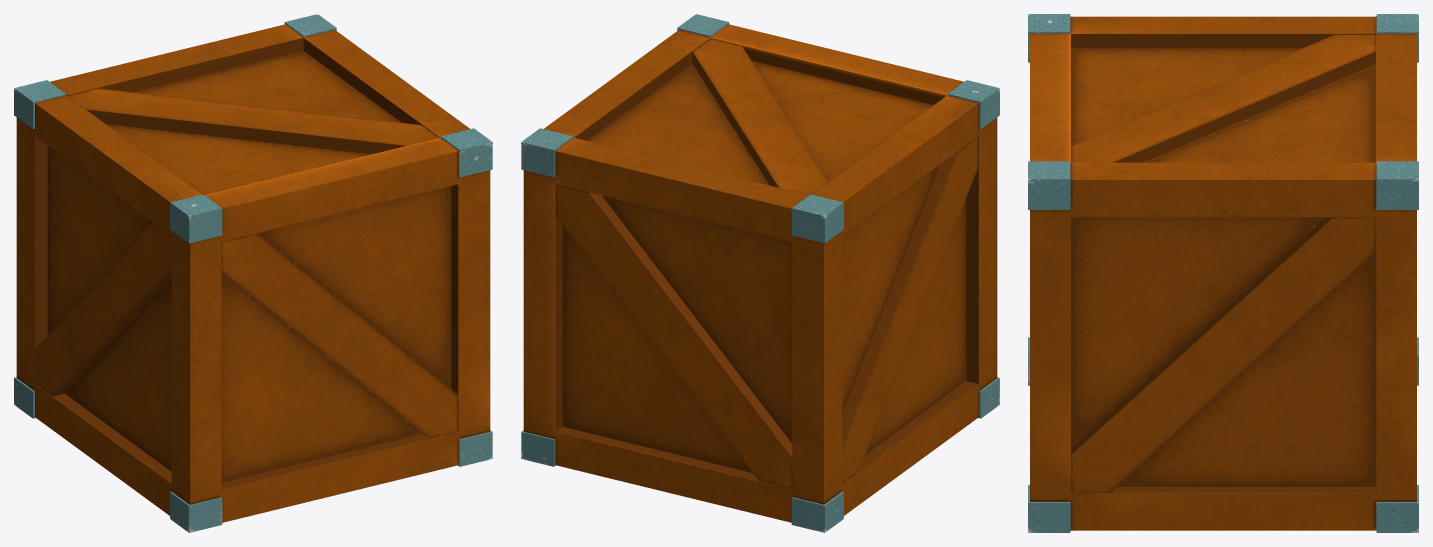
File: wooden crate v2 tex.fbx
3 renders of one model, left to right at view 1: azimuth 30°, elevation 25°; view 2: azimuth 150°, elevation 25°; view 3: azimuth 270°, elevation 25°, orthographic. The views are drawn at different scales.
Visible parts, largest first — view 1: wooden_crate_v2; view 2: wooden_crate_v2; view 3: wooden_crate_v2.
Boxes of the visible parts, x1,y1,x2,y2 form: wooden_crate_v2: (14,14,492,532); wooden_crate_v2: (521,14,999,532); wooden_crate_v2: (1028,14,1418,532).
Bounding box in the file's own units: 60.94 × 60.73 × 60.86.
Materials: 1 (1 with a texture image).
